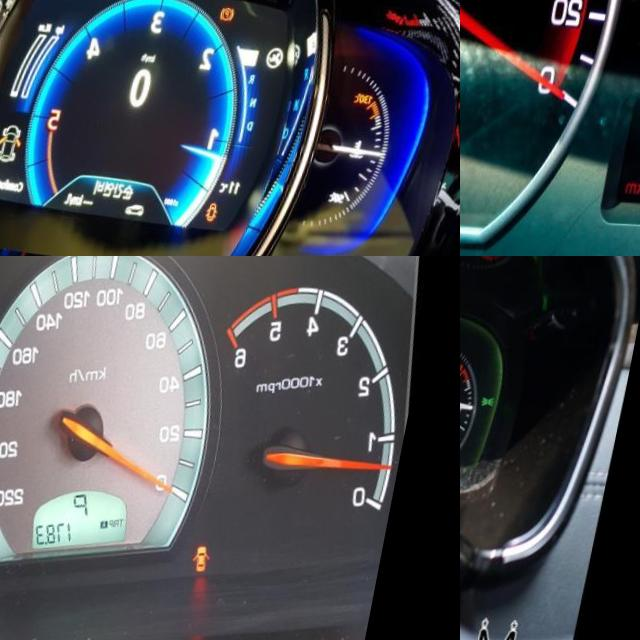Doors: (209, 538, 234, 568), (221, 197, 236, 218)
Low beam: (460, 467, 469, 481)
SideLamp: (495, 389, 510, 401)
